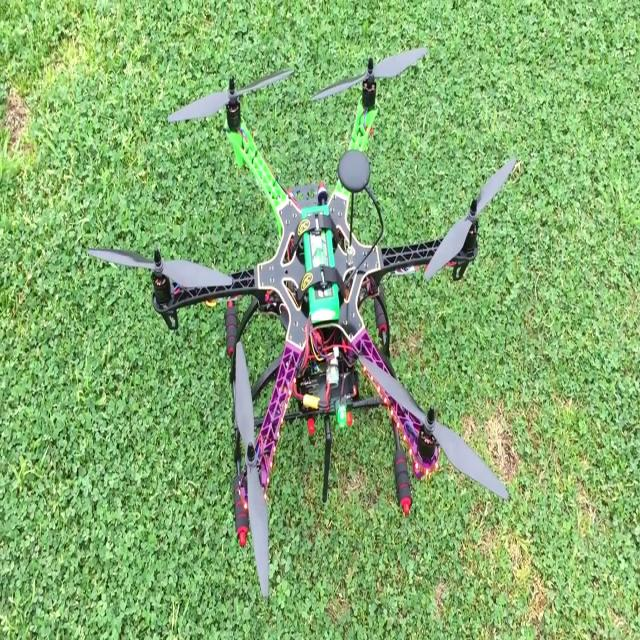drone: (142, 21, 508, 567)
